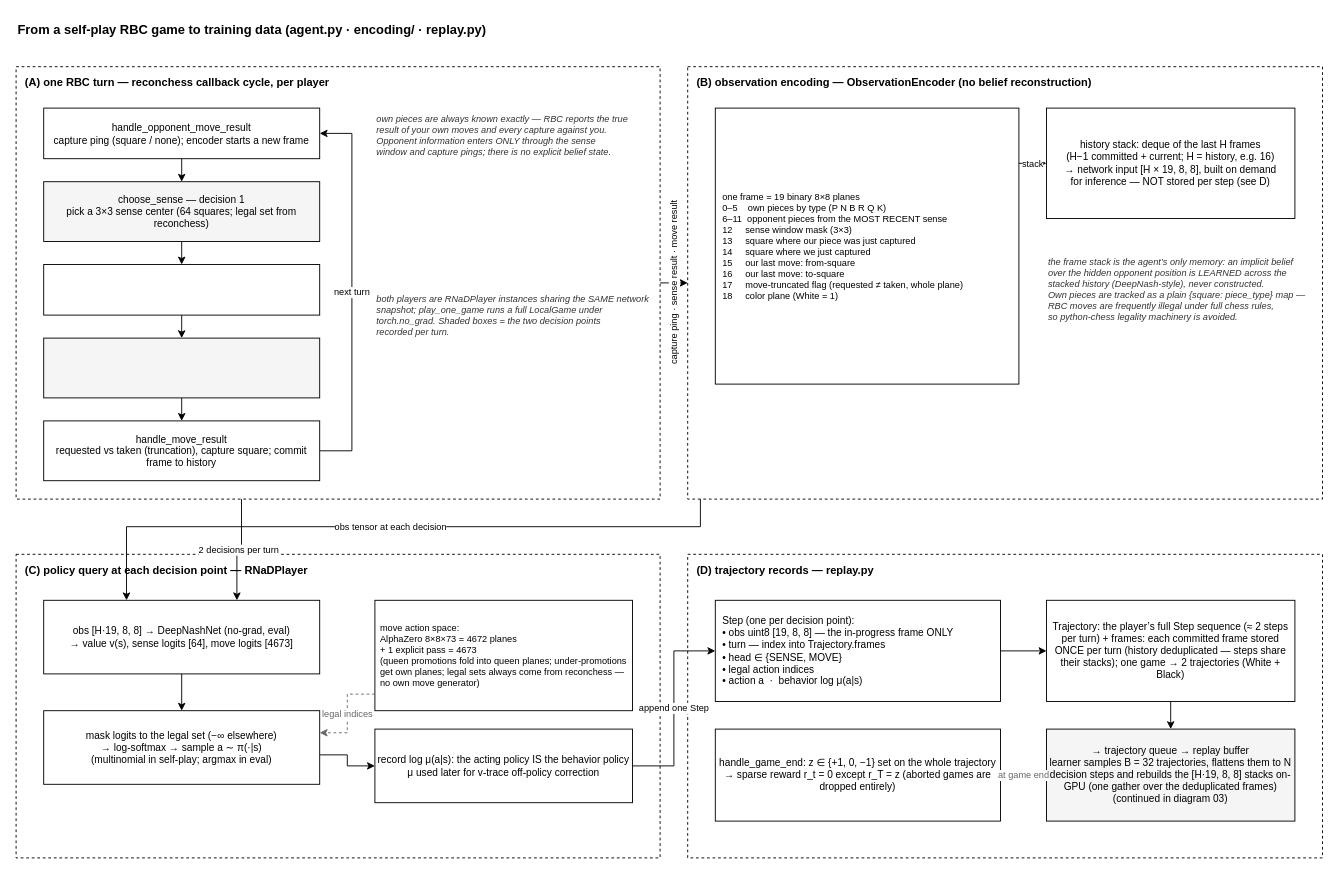
This 1339x874 diagram has some shape labels left out. The centre of each missing label's shape, as x and y in pixels:
choose_move — decision 2 pick from the turn’s candidate moves + explicit pass: the point at 181,367
handle_sense_result revealed pieces in the 3×3 window → encoder: the point at 181,289
